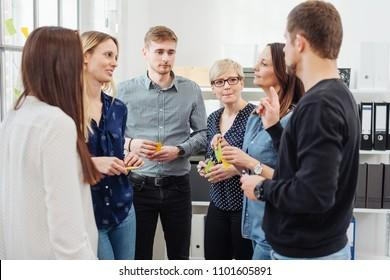No_Goggles: (95, 50, 120, 61), (150, 48, 178, 57)
No_Helmet: (282, 0, 345, 38), (144, 22, 179, 44), (208, 57, 246, 77), (81, 26, 118, 46)
